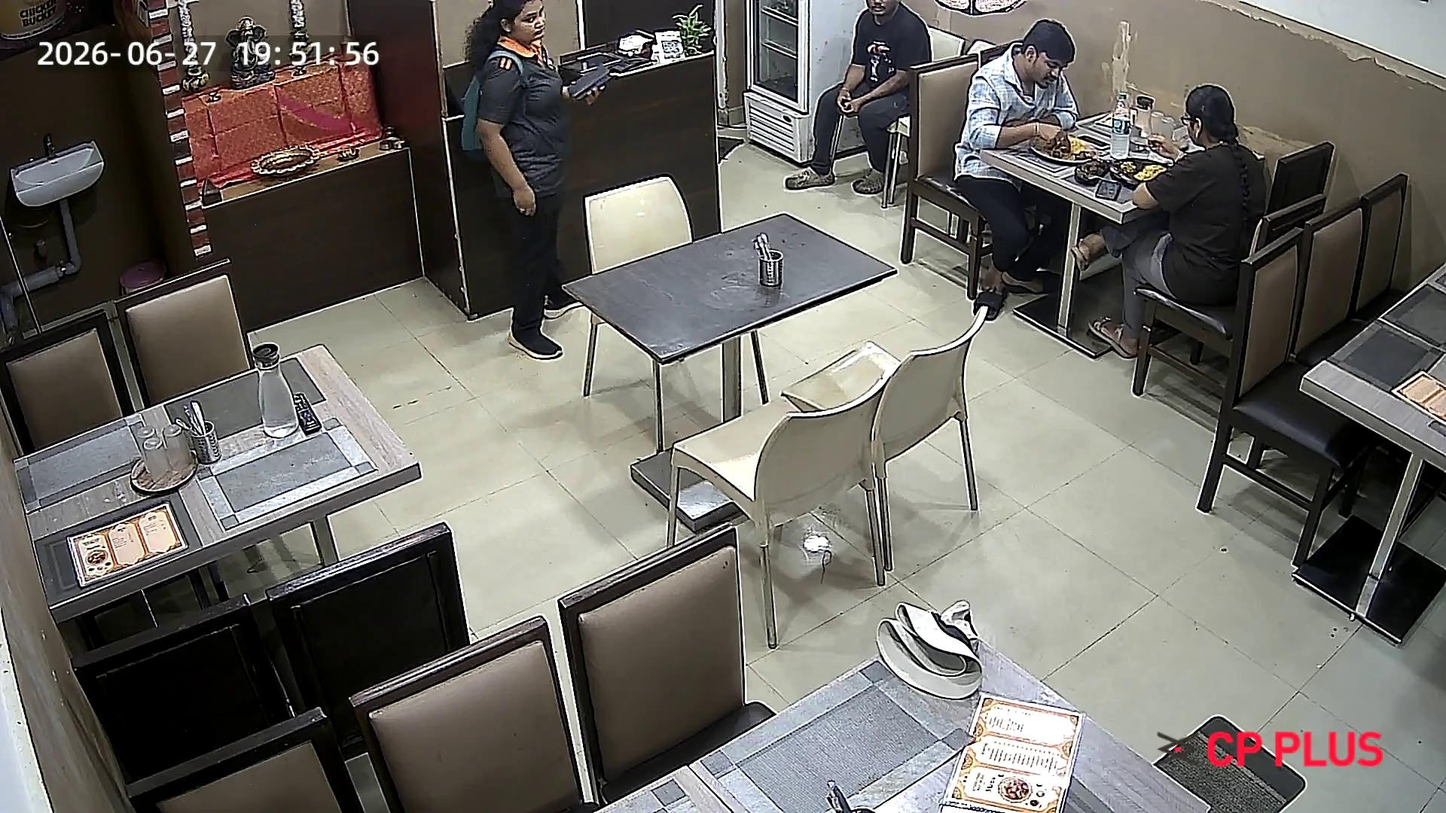clean: (8, 340, 422, 613), (557, 207, 906, 364)
occupied: (928, 60, 1317, 244)
